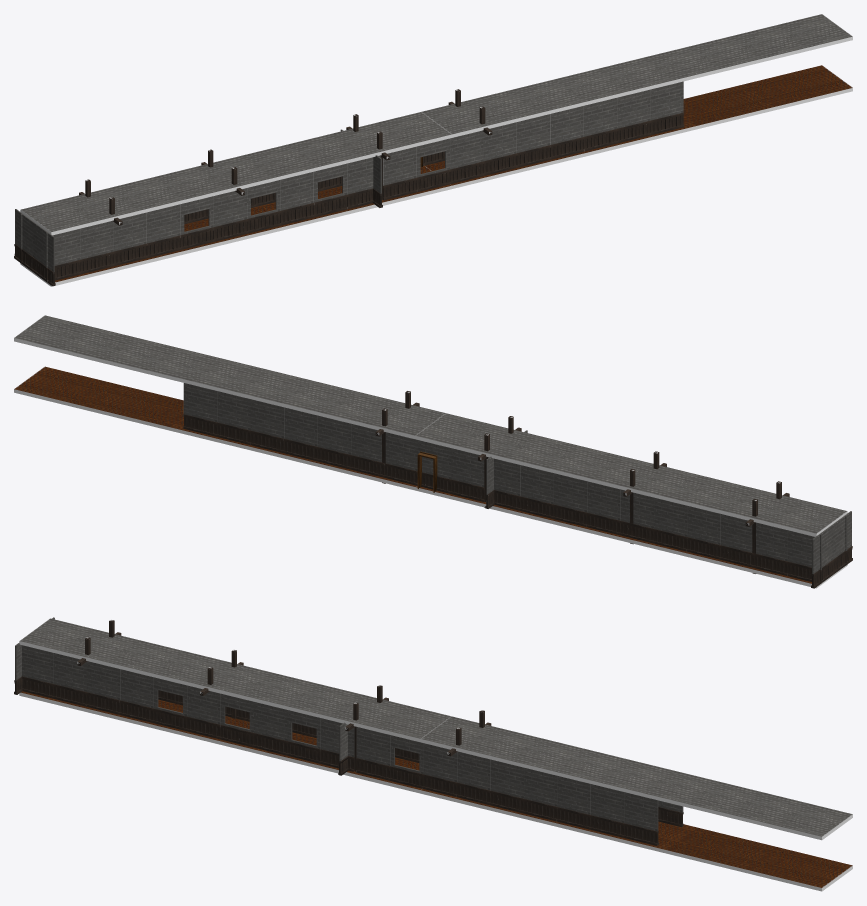
Rendered from EndingMk2.fbx.
3 views of the same model, one above another, from view 1: azimuth 30°, elevation 25°; view 2: azimuth 150°, elevation 25°; view 3: azimuth 330°, elevation 25° (orthographic).
Parts seen in each view (by area): view 1: SM_Bld_House_Wall_02_001_3; view 2: SM_Bld_House_Wall_02_001_3; view 3: SM_Bld_House_Wall_02_001_3.
Boxes of the visible parts, box(x1,y1,x2,y2) form: SM_Bld_House_Wall_02_001_3: box(14, 14, 852, 286); SM_Bld_House_Wall_02_001_3: box(14, 315, 852, 588); SM_Bld_House_Wall_02_001_3: box(14, 617, 852, 891).
Size of the model in its own units: 6016 by 523 by 523.
